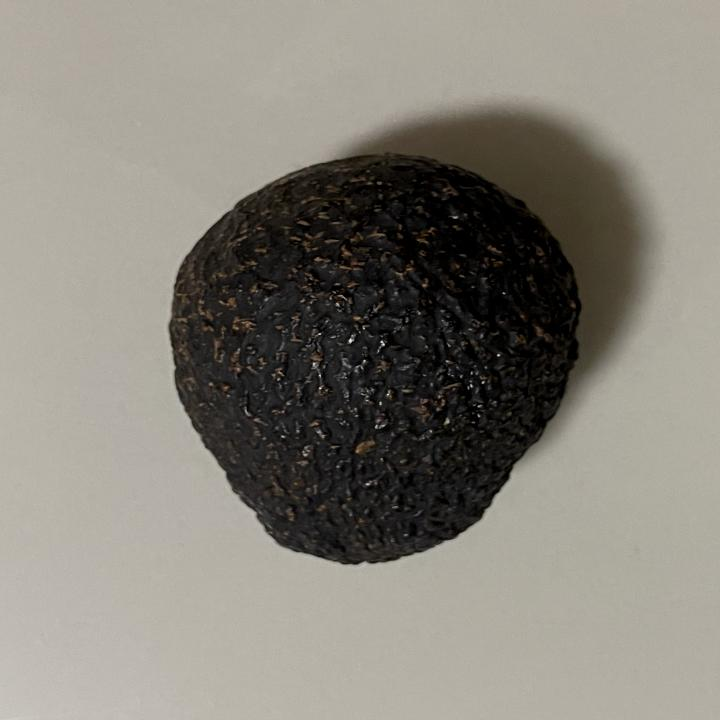Level3: (161, 146, 592, 576)
